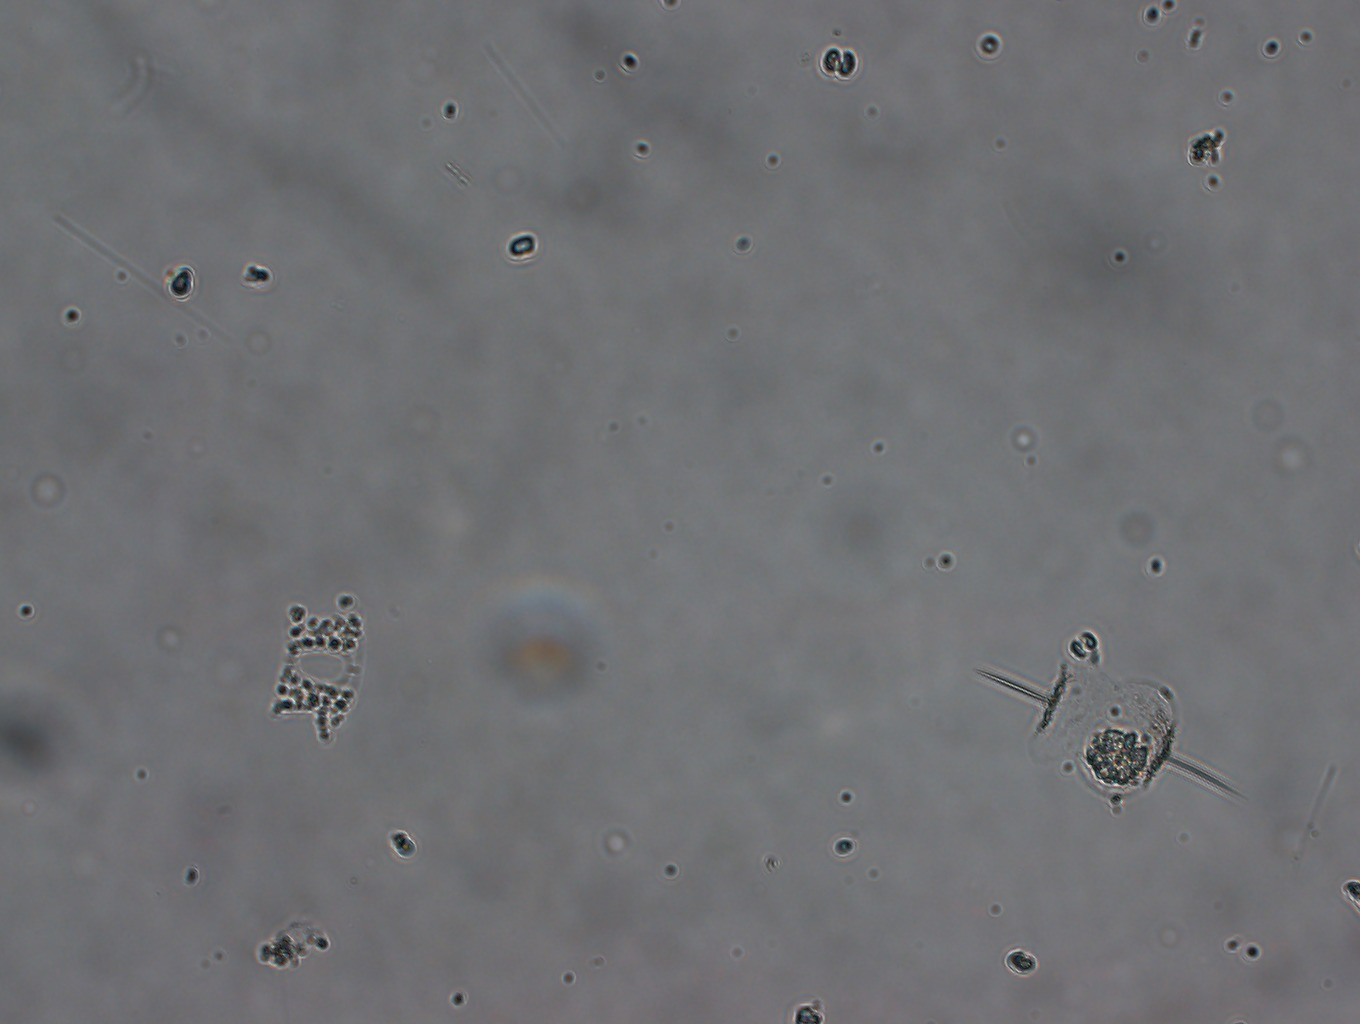ditylum: (955, 629, 1248, 830)
eucampia: (256, 593, 367, 750)
